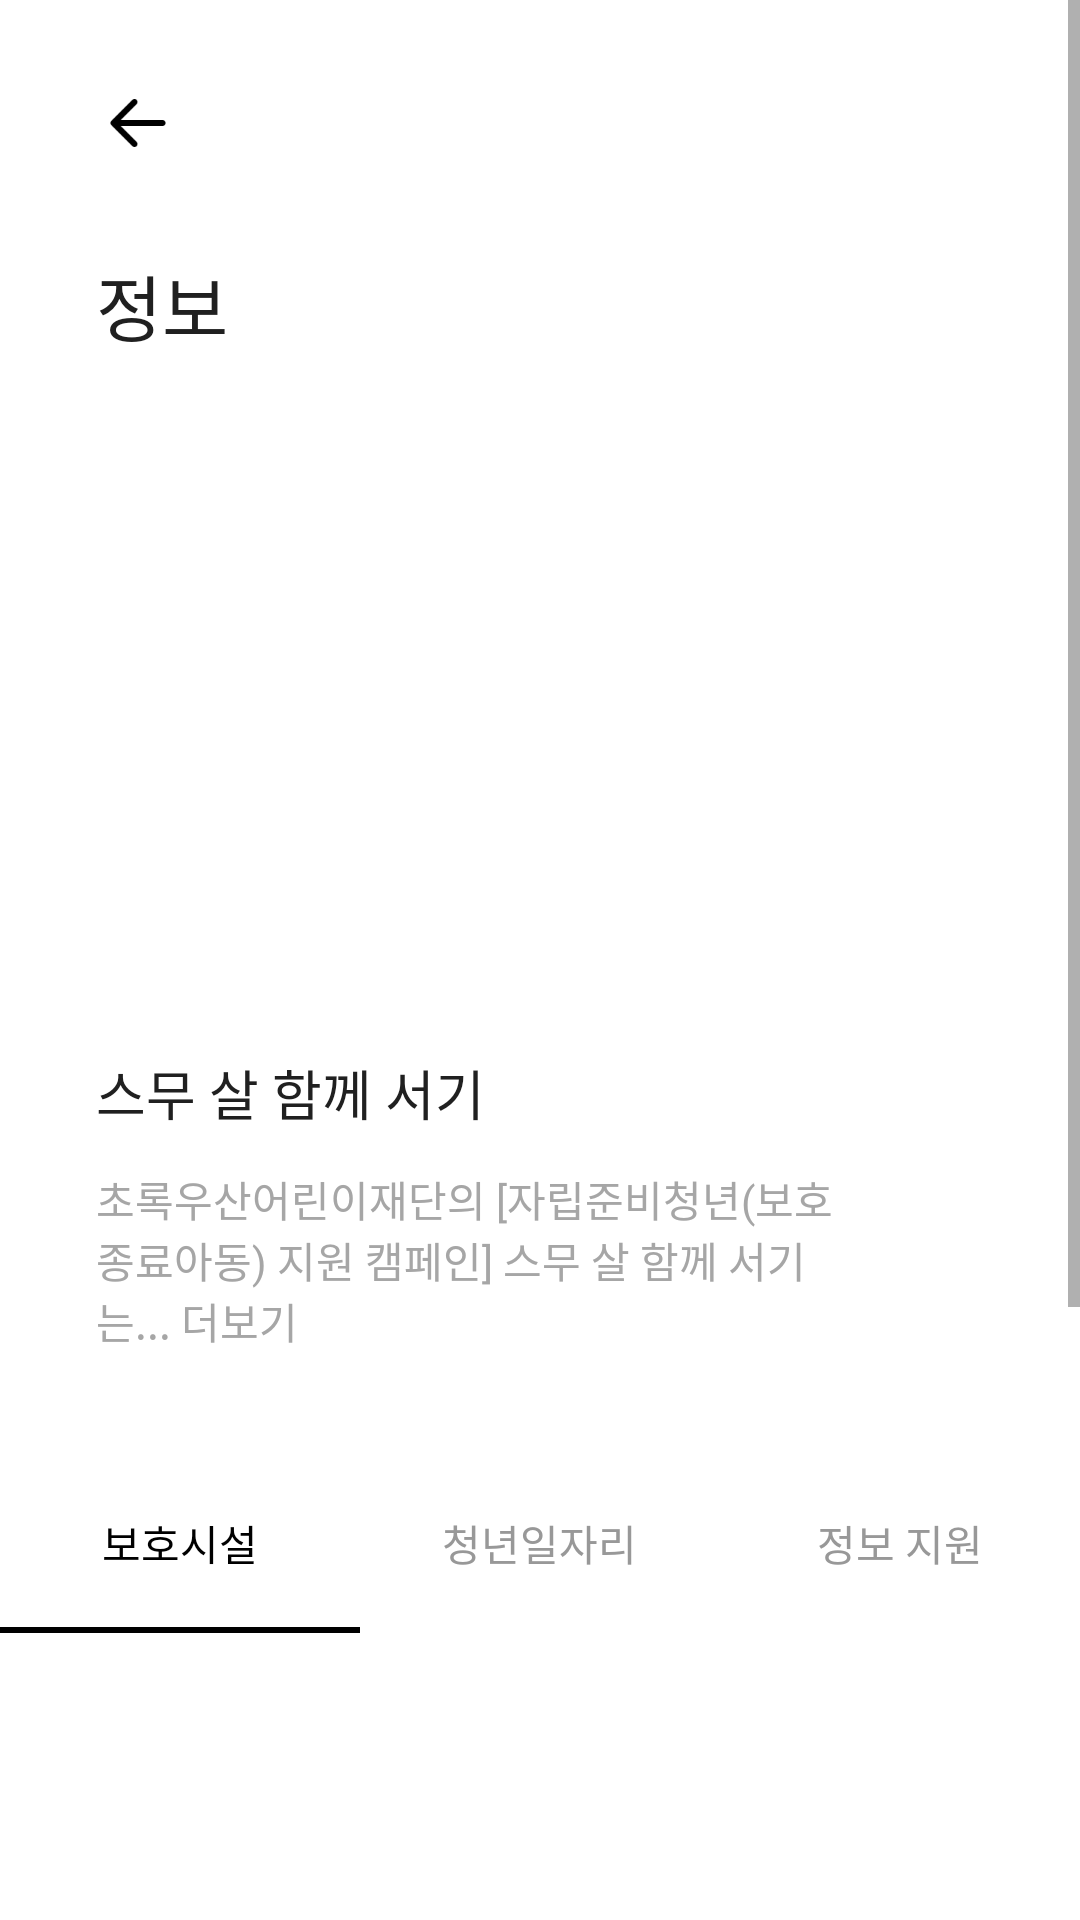

Icons on this 1080px x 1920px Android screen, each with its box as (x1, y1, x2, y2):
back: (110, 99, 166, 147)
